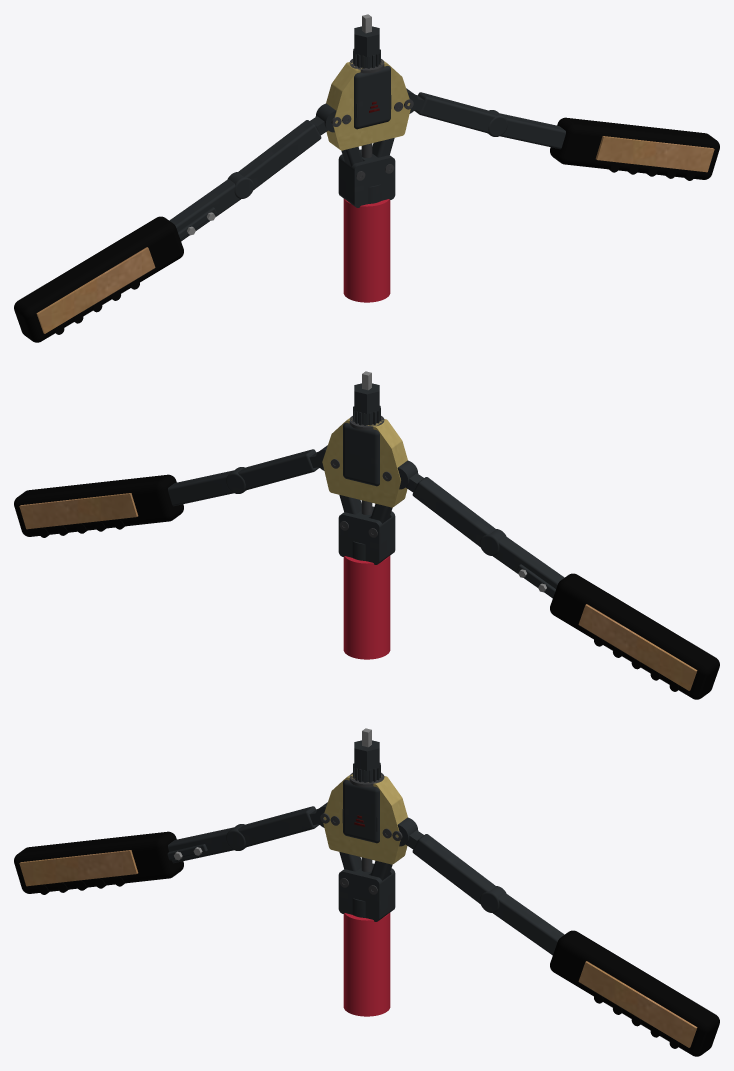
The model's file is rivet_squeeze1__0000.glb.
3 renders of one model, top to bottom at view 1: azimuth 30°, elevation 25°; view 2: azimuth 150°, elevation 25°; view 3: azimuth 330°, elevation 25°, orthographic.
Visible parts, largest first — view 1: handle_0::grip_core, handle_1::grip_core, head::collection_bottle, handle_0::metal_arm, head::red_head_body, handle_1::metal_arm, handle_0::grip_overmold, handle_1::grip_overmold, head::lower_housing, head::head_spine, head::hex_lock_nut; view 2: handle_0::grip_core, handle_1::grip_core, head::collection_bottle, handle_0::metal_arm, head::red_head_body, handle_1::metal_arm, handle_0::grip_overmold_back, handle_1::grip_overmold_back, head::lower_housing, head::head_spine, head::hex_lock_nut; view 3: handle_1::grip_core, handle_0::grip_core, head::collection_bottle, handle_1::metal_arm, head::red_head_body, handle_0::metal_arm, handle_1::grip_overmold, handle_0::grip_overmold, head::lower_housing, head::head_spine, head::hex_lock_nut.
Boxes of the visible parts, left/top/right/bottom form: handle_0::grip_core: left=14, top=216, right=183, bottom=342; handle_1::grip_core: left=550, top=117, right=719, bottom=180; head::collection_bottle: left=343, top=199, right=390, bottom=302; handle_0::metal_arm: left=169, top=120, right=321, bottom=241; head::red_head_body: left=326, top=61, right=410, bottom=150; handle_1::metal_arm: left=414, top=92, right=565, bottom=149; handle_0::grip_overmold: left=36, top=247, right=155, bottom=333; handle_1::grip_overmold: left=595, top=136, right=714, bottom=172; head::lower_housing: left=338, top=149, right=395, bottom=207; head::head_spine: left=354, top=66, right=390, bottom=129; head::hex_lock_nut: left=354, top=26, right=379, bottom=56; handle_0::grip_core: left=550, top=573, right=719, bottom=699; handle_1::grip_core: left=14, top=474, right=183, bottom=537; head::collection_bottle: left=343, top=556, right=390, bottom=659; handle_0::metal_arm: left=412, top=477, right=564, bottom=598; head::red_head_body: left=322, top=418, right=407, bottom=507; handle_1::metal_arm: left=168, top=449, right=319, bottom=506; handle_0::grip_overmold_back: left=578, top=604, right=697, bottom=690; handle_1::grip_overmold_back: left=19, top=493, right=138, bottom=529; head::lower_housing: left=338, top=506, right=395, bottom=564; head::head_spine: left=343, top=423, right=379, bottom=486; head::hex_lock_nut: left=354, top=383, right=379, bottom=413; handle_1::grip_core: left=550, top=930, right=719, bottom=1056; handle_0::grip_core: left=14, top=831, right=183, bottom=894; head::collection_bottle: left=343, top=913, right=390, bottom=1016; handle_1::metal_arm: left=412, top=834, right=564, bottom=955; head::red_head_body: left=323, top=774, right=407, bottom=864; handle_0::metal_arm: left=168, top=806, right=319, bottom=863; handle_1::grip_overmold: left=578, top=961, right=697, bottom=1047; handle_0::grip_overmold: left=19, top=850, right=138, bottom=886; head::lower_housing: left=338, top=863, right=395, bottom=921; head::head_spine: left=343, top=780, right=379, bottom=843; head::hex_lock_nut: left=354, top=740, right=379, bottom=770.
Size of the model in its own units: 0.9648 by 0.3658 by 0.056.
8 materials, 6 textured.
